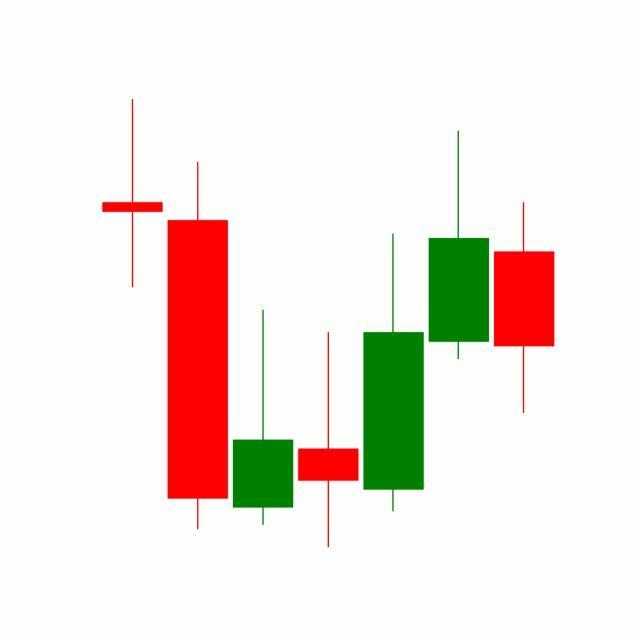Three Outside Up-Down: (295, 126, 492, 549)
